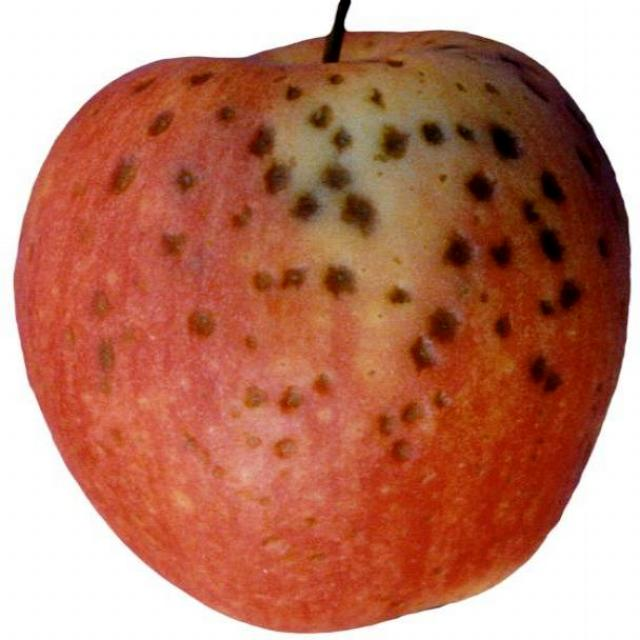BLOTCH: (19, 23, 624, 630)
